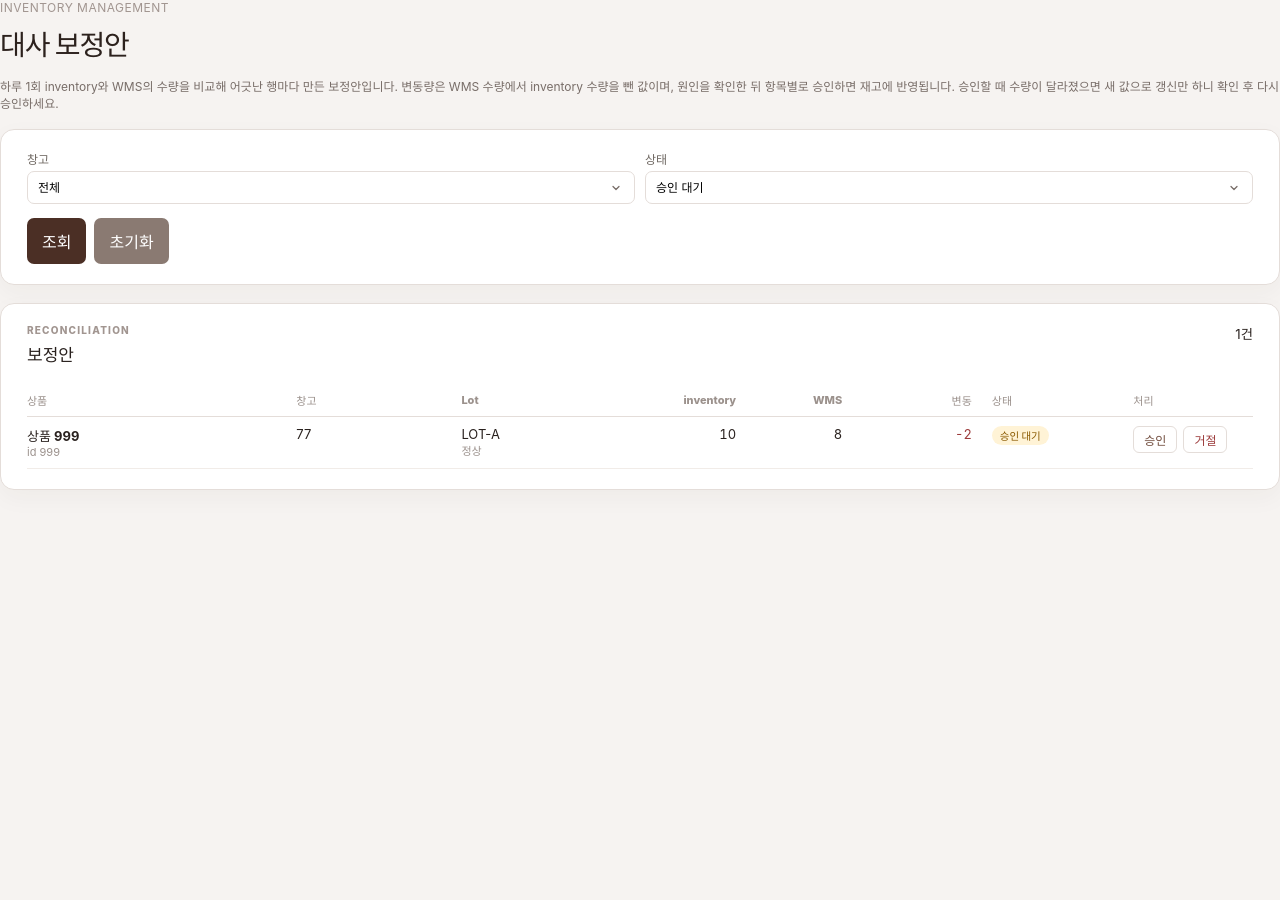
ReconciliationsPage › 승인·거절 › 이름을 모르는 상품·창고는 id로 보여주고 단위는 생략한다
What coordinates should you click on to do the following:
click the button with aria-label "상품 999 LOT-A 승인"
I would click on:
 (1155, 440)
Its box is [1133,426,1177,453].
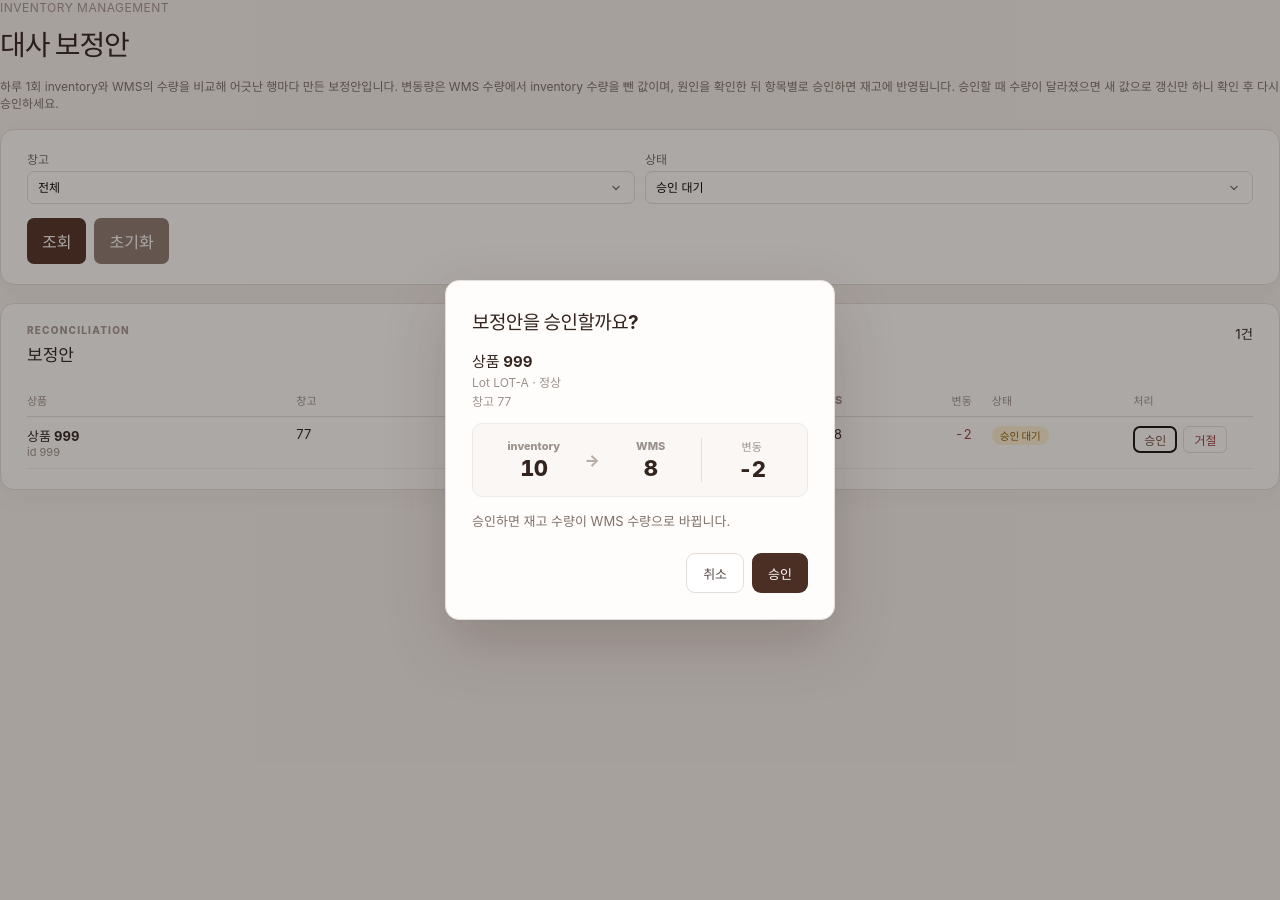
Result: the text "상품 999" is shown at [472,352,532,371]
Result: the text "Lot LOT-A · 정상" is shown at [472,375,561,390]
Result: the text "창고 77" is shown at [472,394,511,409]
